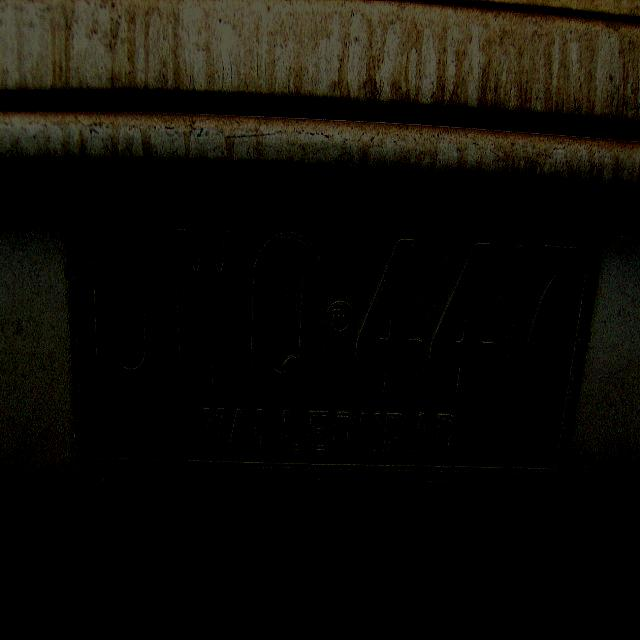particular: (61, 153, 612, 496)
